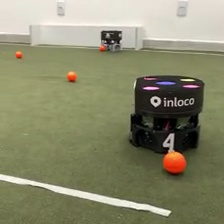ball: (161, 149, 188, 177), (66, 69, 77, 82), (14, 50, 23, 58), (99, 44, 105, 51)
goal: (28, 21, 145, 51)
robot: (127, 72, 207, 156), (99, 29, 123, 53)
